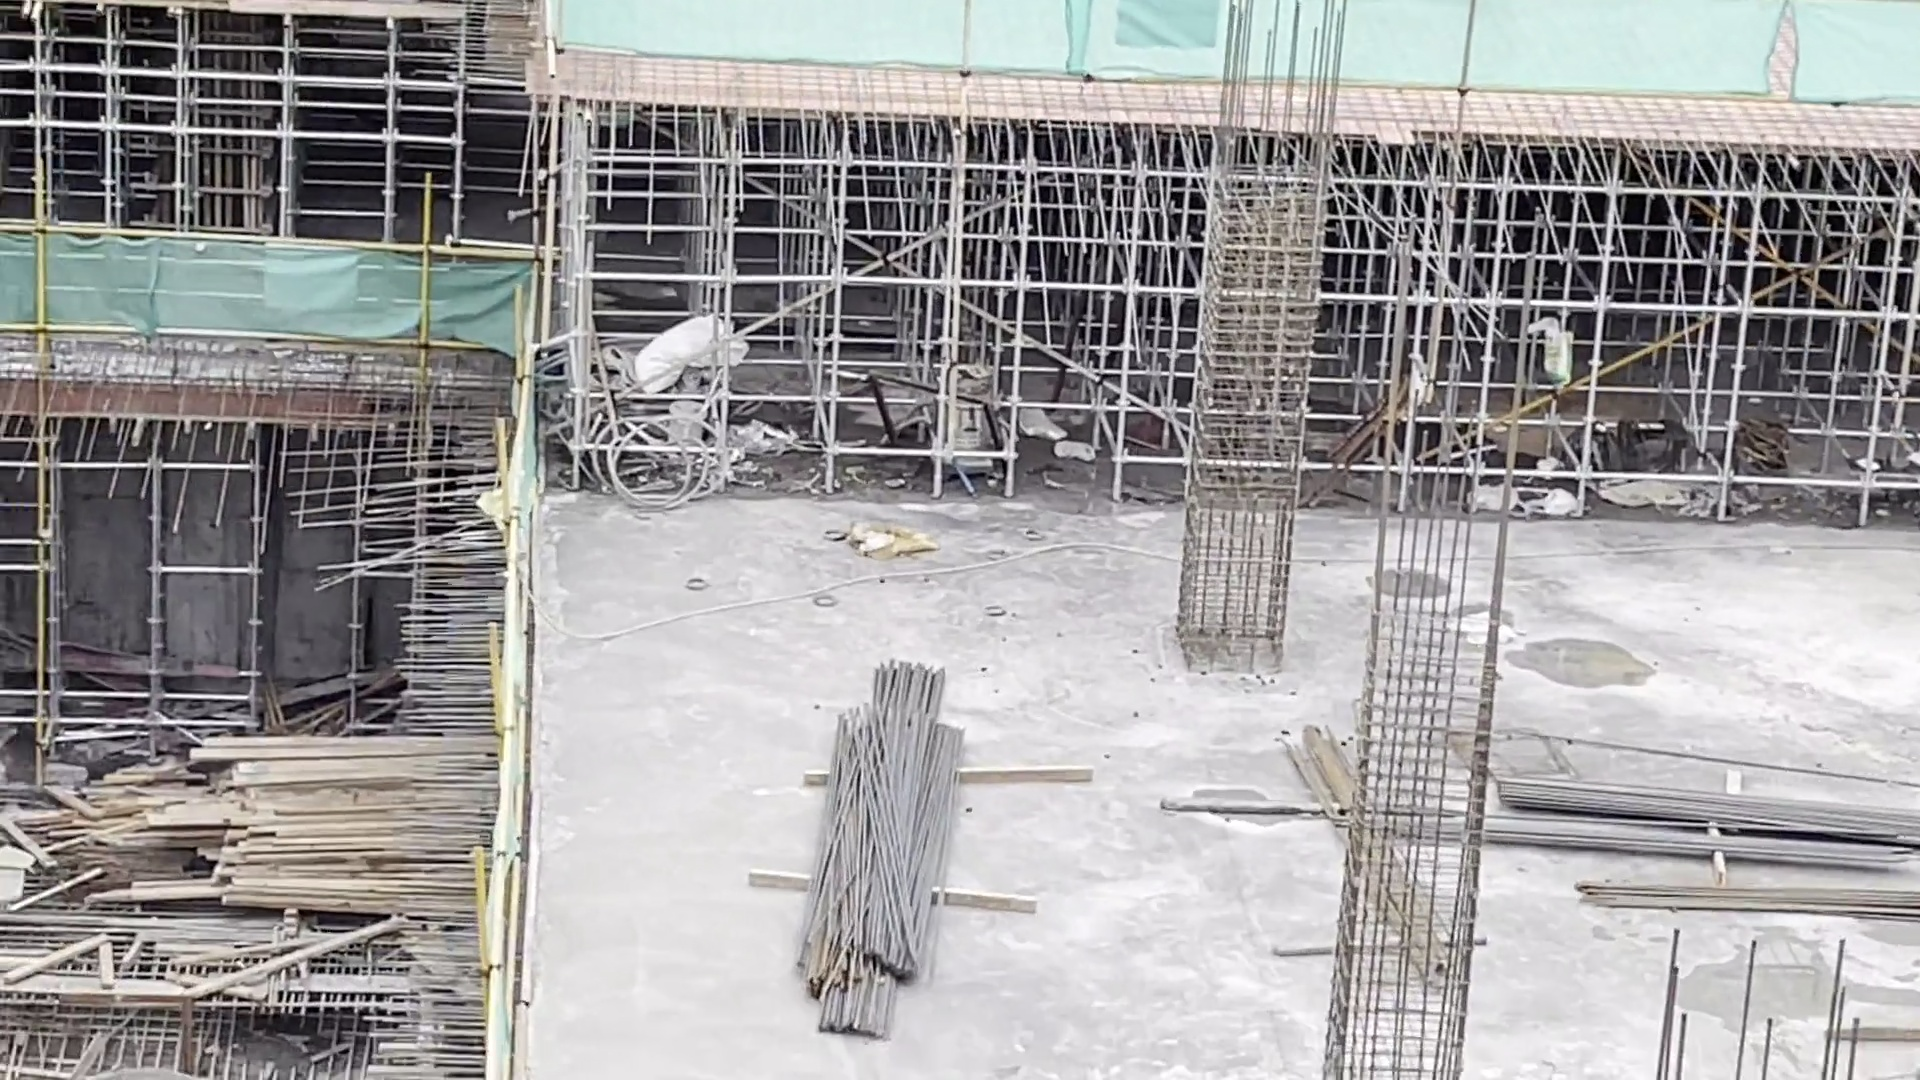rebar: (787, 658, 969, 1039)
wood: (189, 721, 512, 909)
